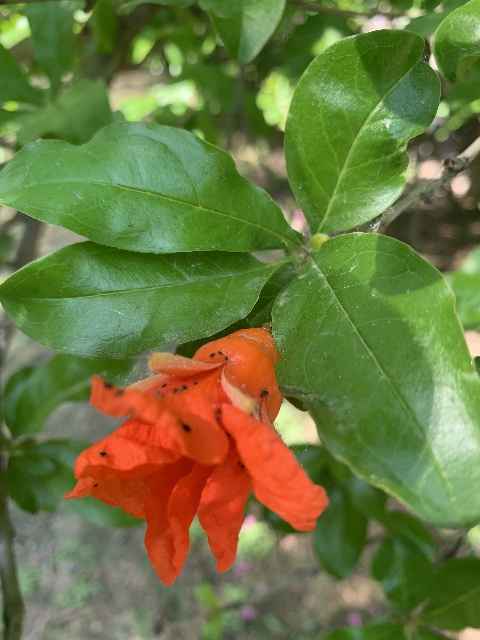flower: (63, 328, 330, 585)
